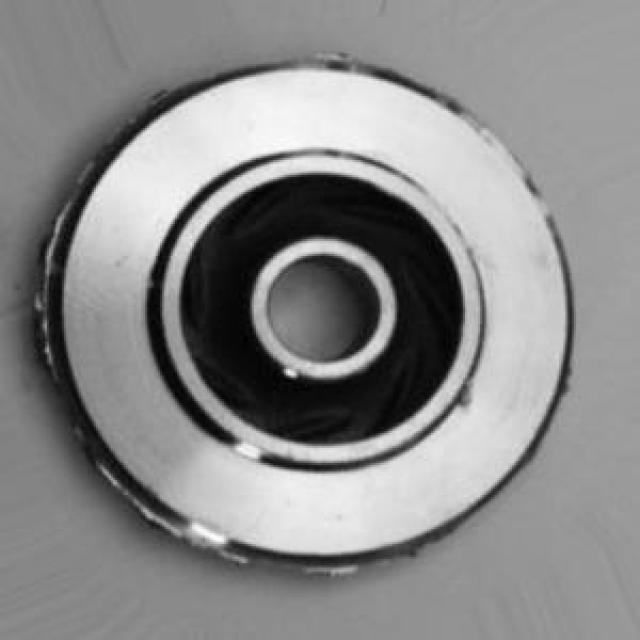Defect: (449, 376, 487, 413)
